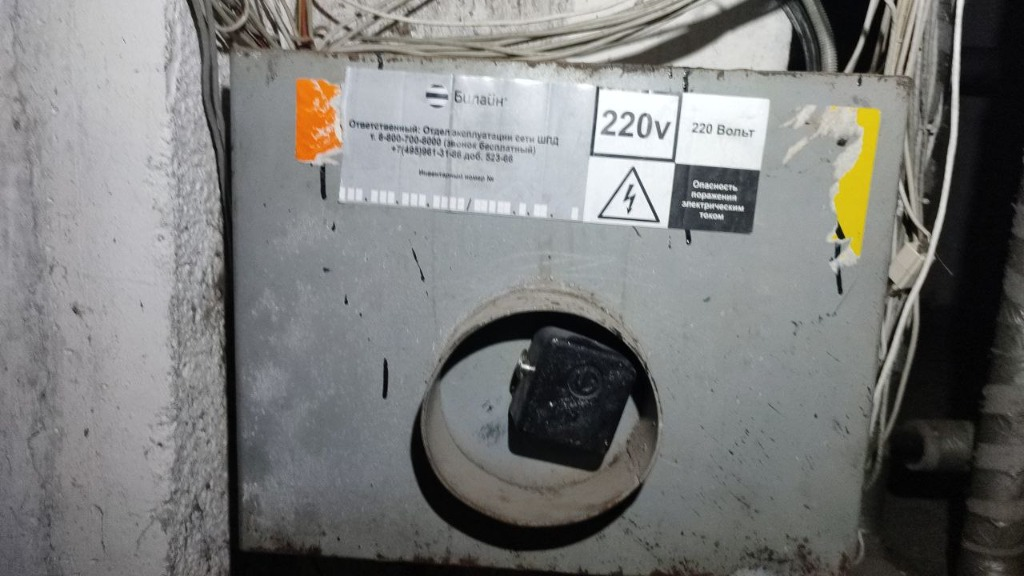shta-3: (228, 40, 916, 573)
